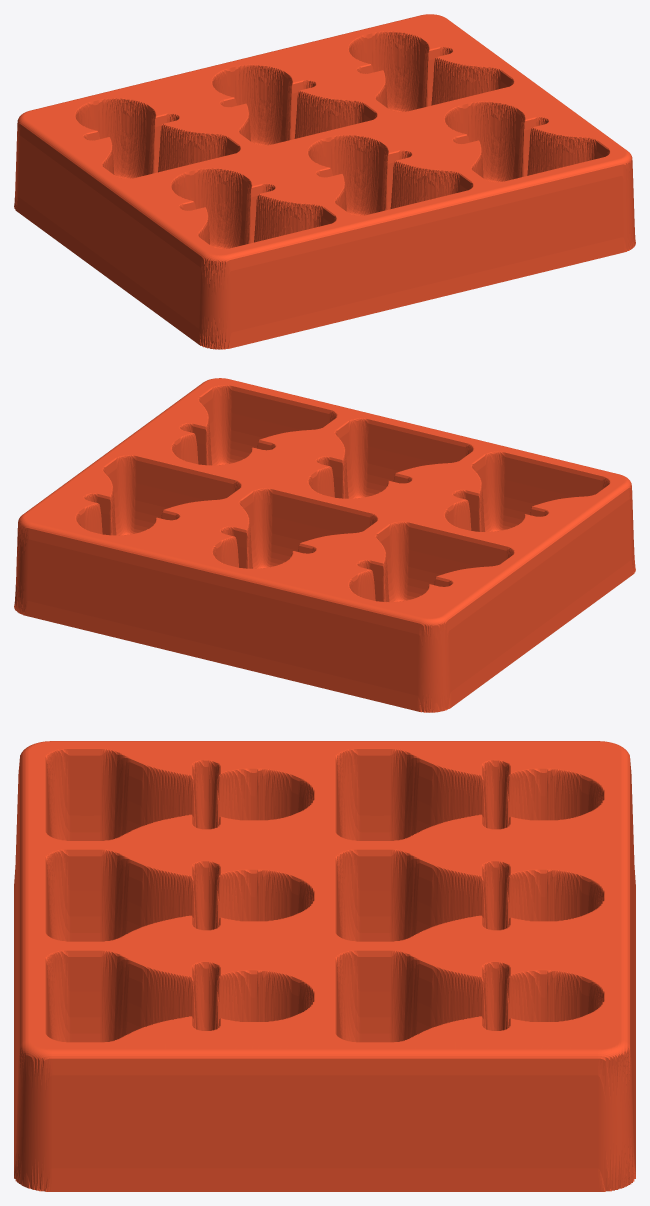
The model's file is mold.glb.
The picture shows the model from 3 angles, top to bottom: view 1: azimuth 30°, elevation 25°; view 2: azimuth 150°, elevation 25°; view 3: azimuth 270°, elevation 25°; orthographic projection. The views are drawn at different scales.
Parts seen in each view (by area): view 1: geometry_0; view 2: geometry_0; view 3: geometry_0.
Boxes of the visible parts, x1,y1,x2,y2 form: geometry_0: [14, 14, 635, 349]; geometry_0: [14, 378, 635, 712]; geometry_0: [14, 741, 635, 1191].
Bounding box in the file's own units: 0.1818 × 0.036 × 0.1492.
